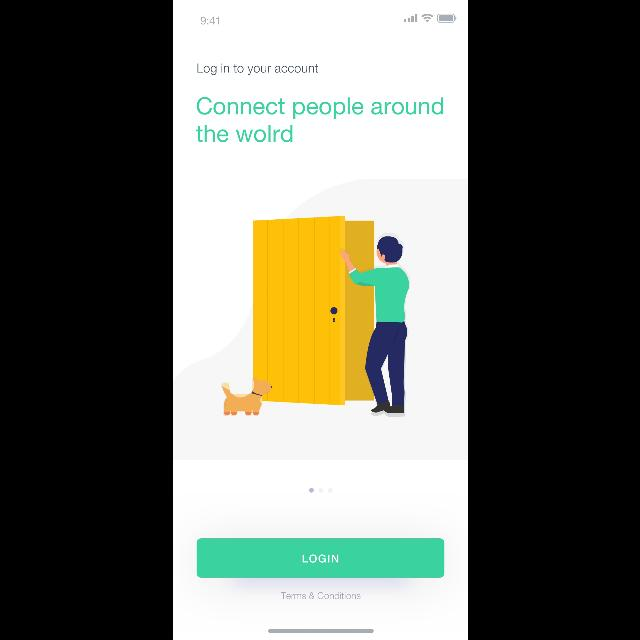image: (220, 216, 410, 417)
pageindicator: (308, 487, 332, 493)
text: (195, 97, 443, 143), (196, 63, 318, 75), (280, 592, 360, 600)
textbutton: (196, 538, 444, 578)
uppertaskbar: (200, 13, 456, 25)
